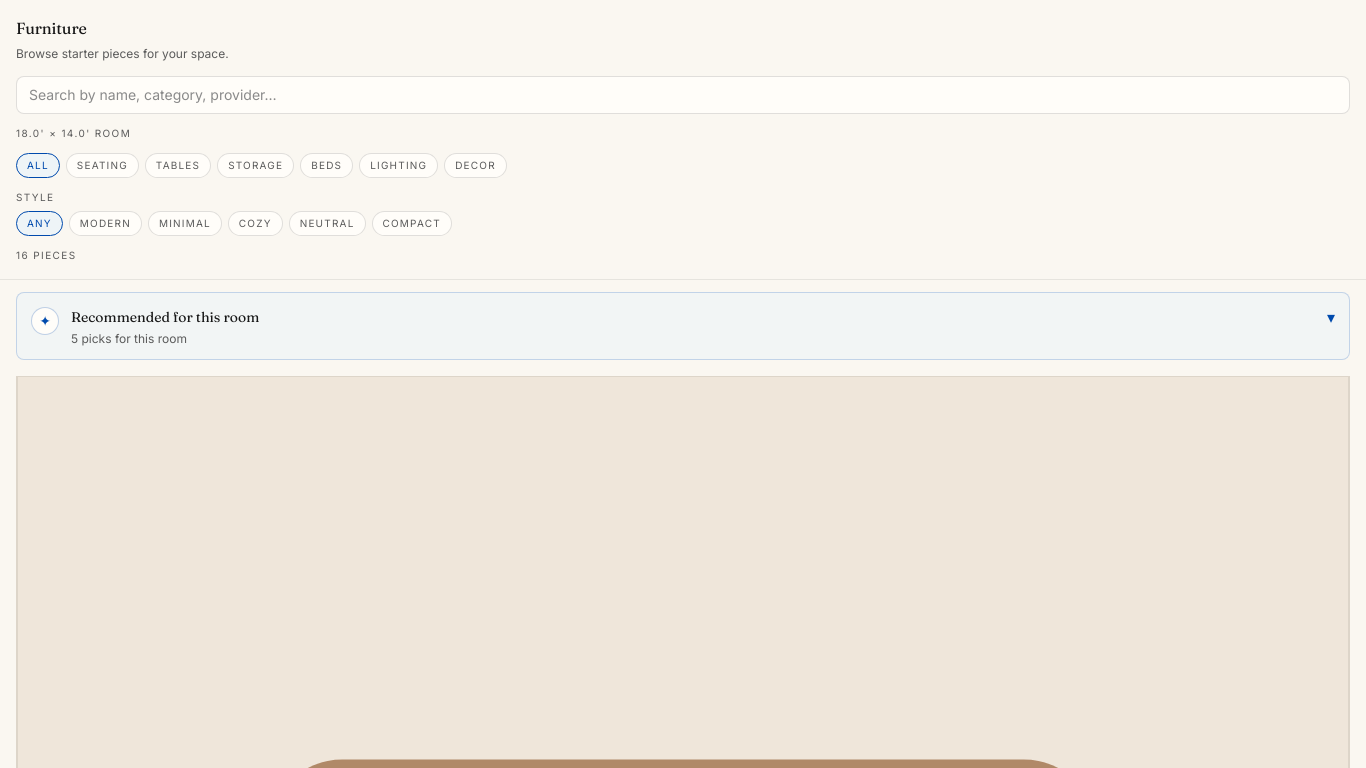
Test: FurnitureCatalogPanel › Recommended for this room section › filters catalog and recommendations by style tag
Click the button "Minimal": (185, 223) [148, 210, 222, 236]
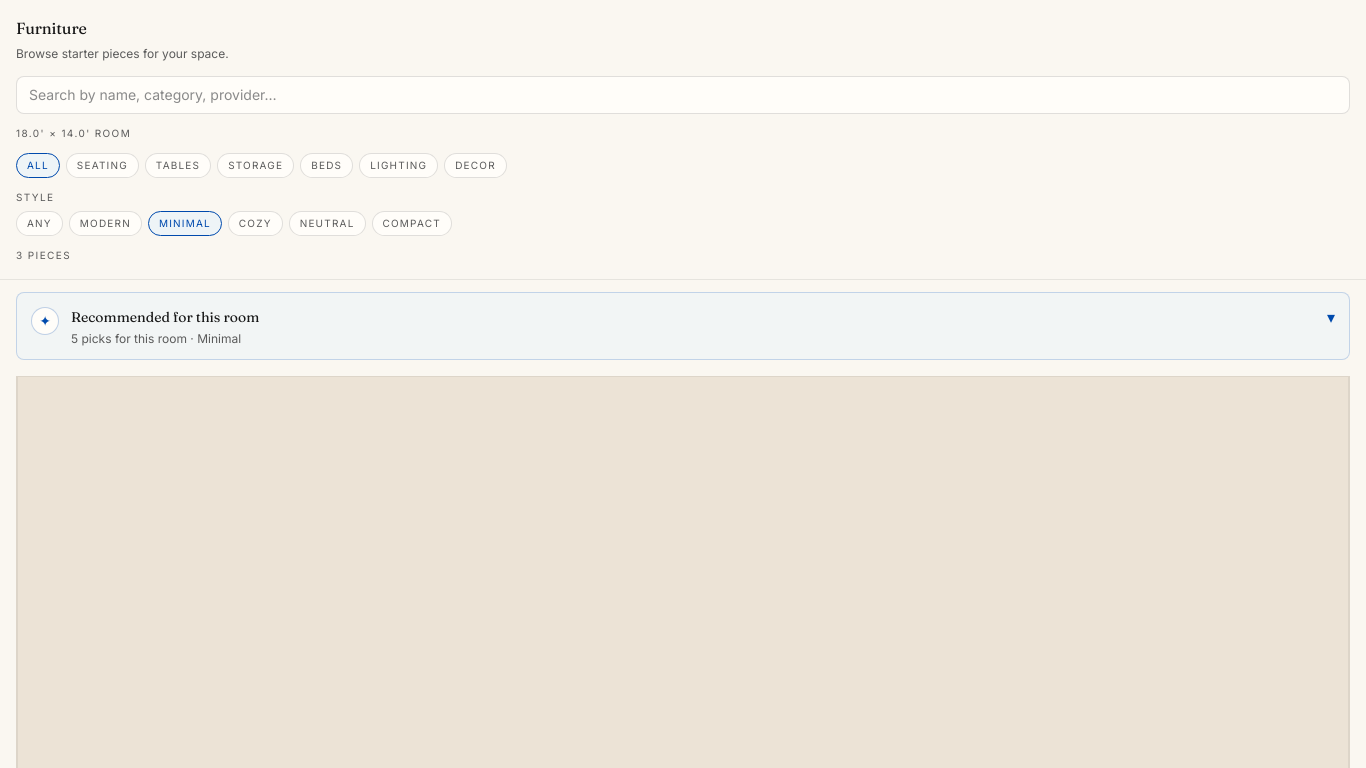
Click the button with test id "recommended-collapsible-trigger": (165, 316) [16, 292, 1350, 360]
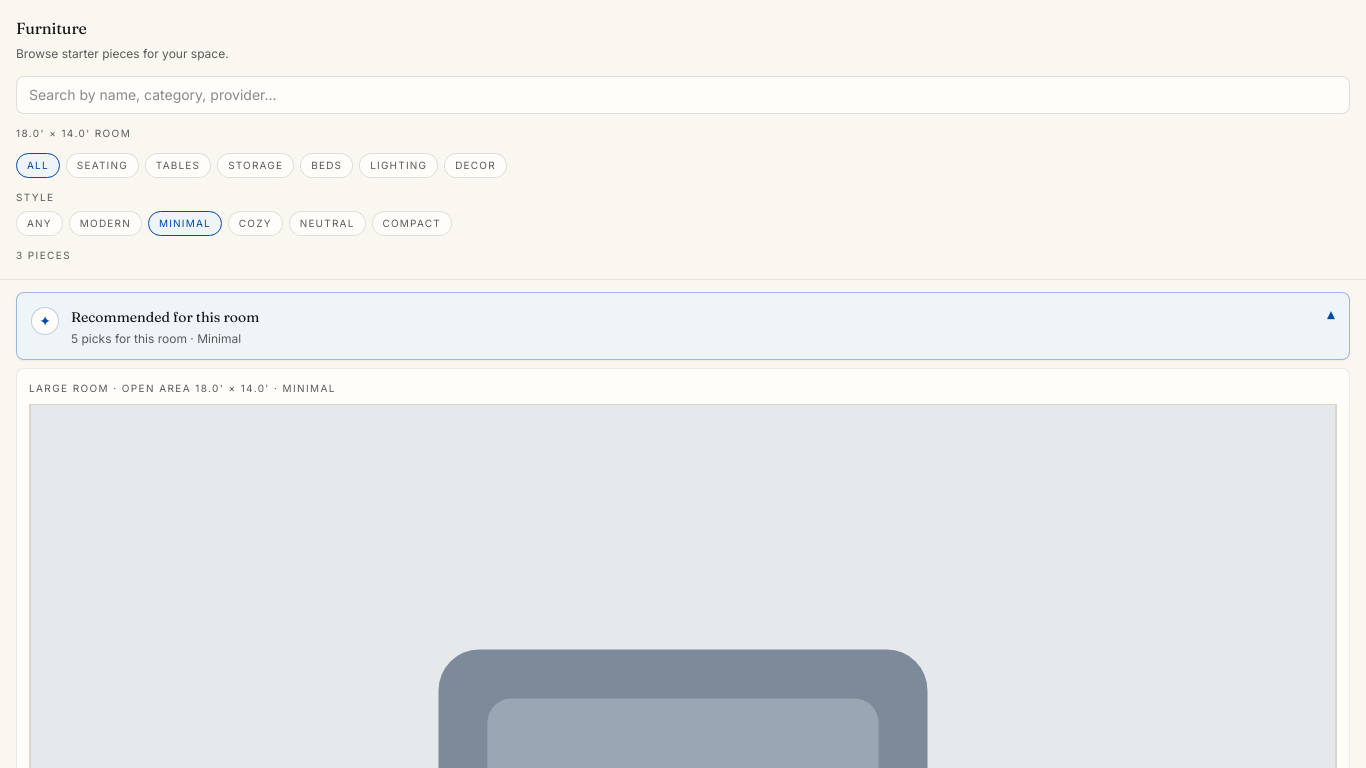
Result: the text "large room · open area 18.0' × 14.0' · Minimal" is shown at [29, 382, 336, 394]
